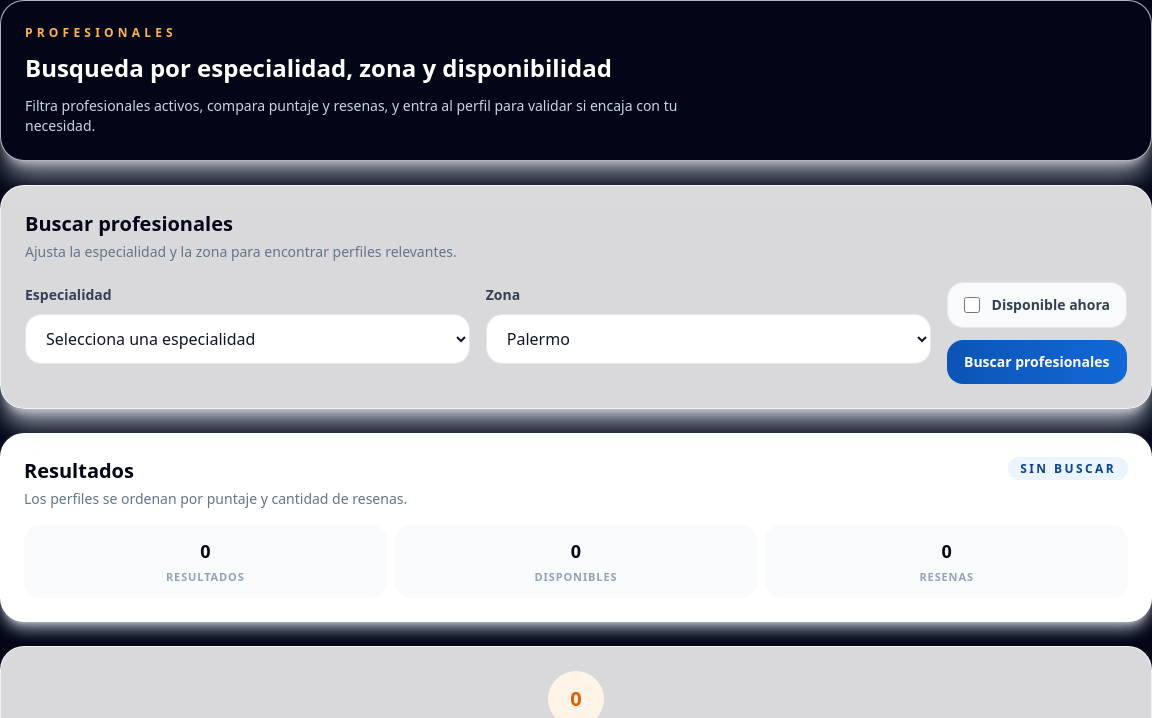
it: ProfessionalsPage › filtra profesionales por especialidad y zona y los ordena por puntaje
Check: the dropdown labelled "Zona" shows "Palermo", box top-left (486, 314), bottom-right (931, 364)
Select "Plomeria" in the dropdown labelled "Especialidad". click: (247, 339)
box: top-left (25, 314), bottom-right (470, 364)
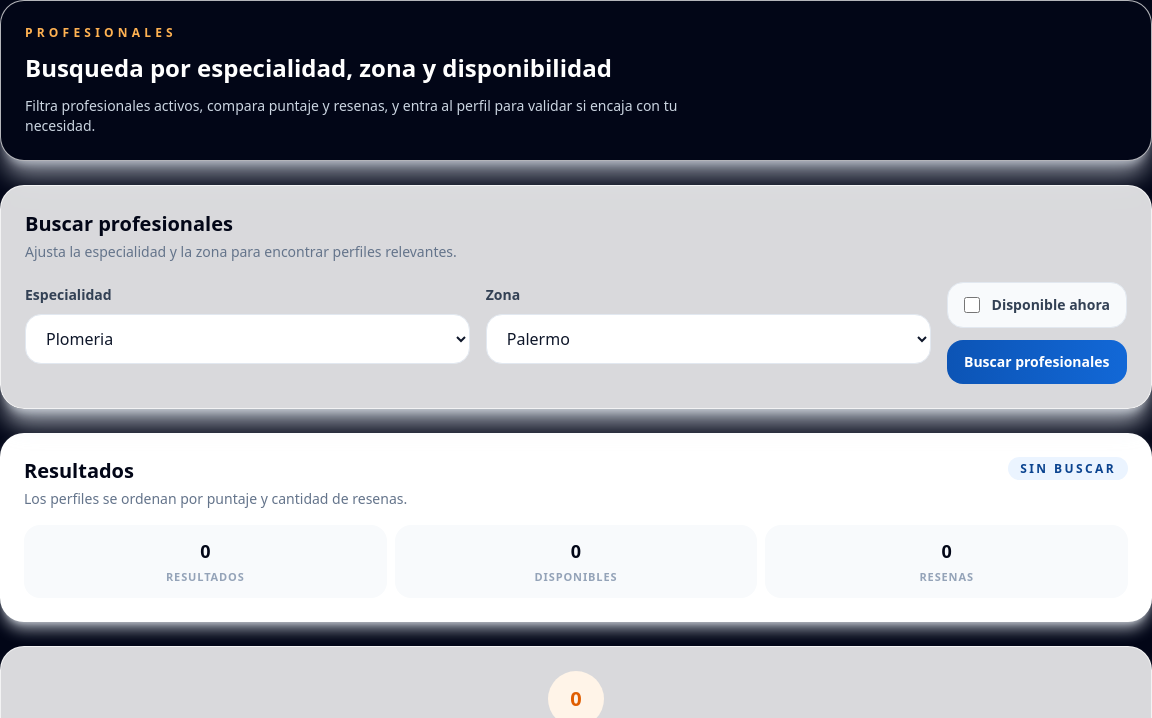
Select "Palermo" in the dropdown labelled "Zona". click: (708, 339)
box: top-left (486, 314), bottom-right (931, 364)
Click the button "Buscar profesionales". click: (1037, 362)
box: top-left (946, 340), bottom-right (1127, 384)
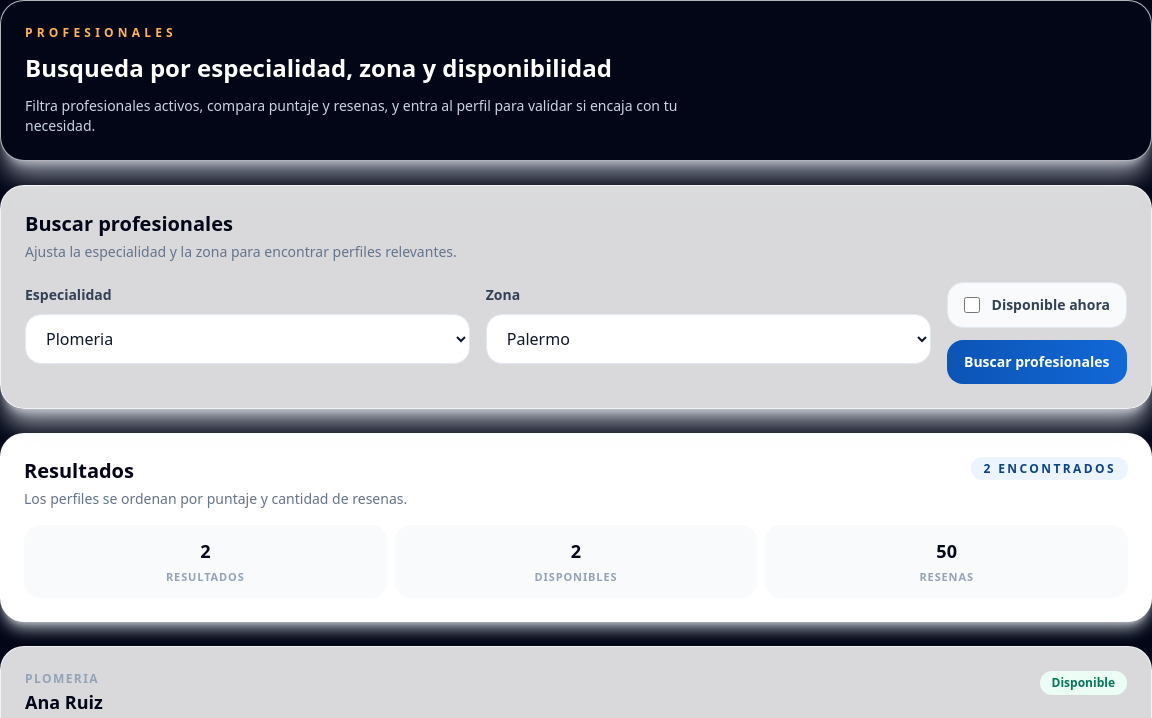
Check: the heading "Ana Ruiz" is shown, box top-left (25, 690), bottom-right (103, 714)
